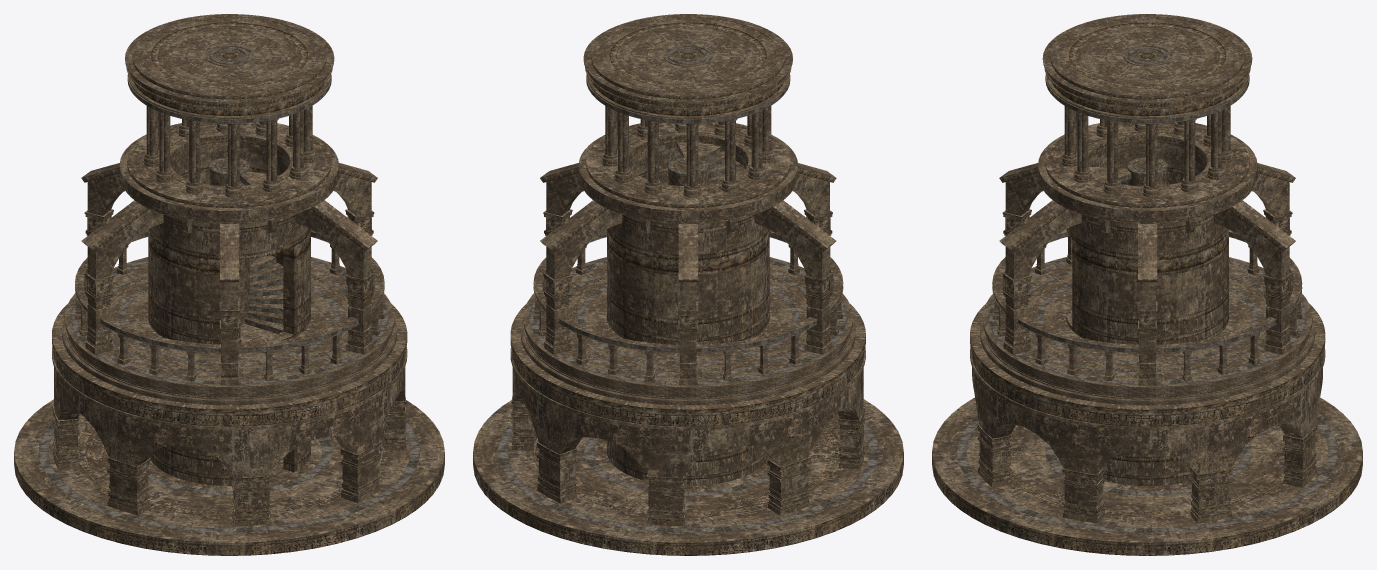
File: materials_5_building_3.fbx
3 renders of one model, left to right at view 1: azimuth 30°, elevation 25°; view 2: azimuth 150°, elevation 25°; view 3: azimuth 270°, elevation 25°, orthographic.
Visible parts, largest first — view 1: materials_5_building_3; view 2: materials_5_building_3; view 3: materials_5_building_3.
Boxes of the visible parts, <box> form: materials_5_building_3: <box>14,14,444,555</box>; materials_5_building_3: <box>473,14,903,555</box>; materials_5_building_3: <box>932,14,1362,555</box>.
Size of the model in its own units: 1636 by 1717 by 1636.
